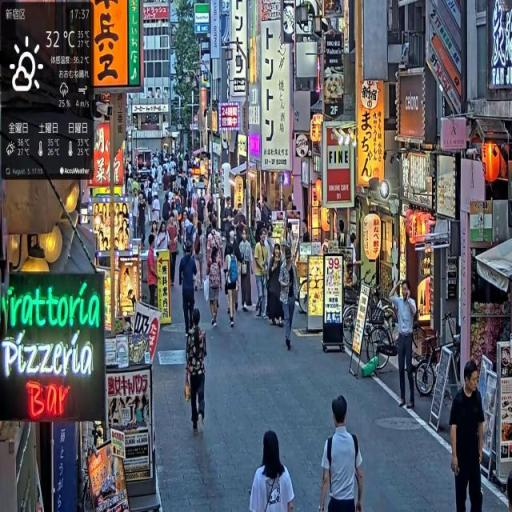person: (449, 360, 487, 512), (319, 393, 367, 512), (388, 280, 420, 412), (248, 432, 297, 512), (186, 307, 210, 436), (279, 247, 302, 352), (181, 245, 200, 338), (253, 229, 271, 318), (224, 237, 241, 329), (237, 227, 255, 313), (207, 244, 224, 331), (168, 214, 181, 289)
